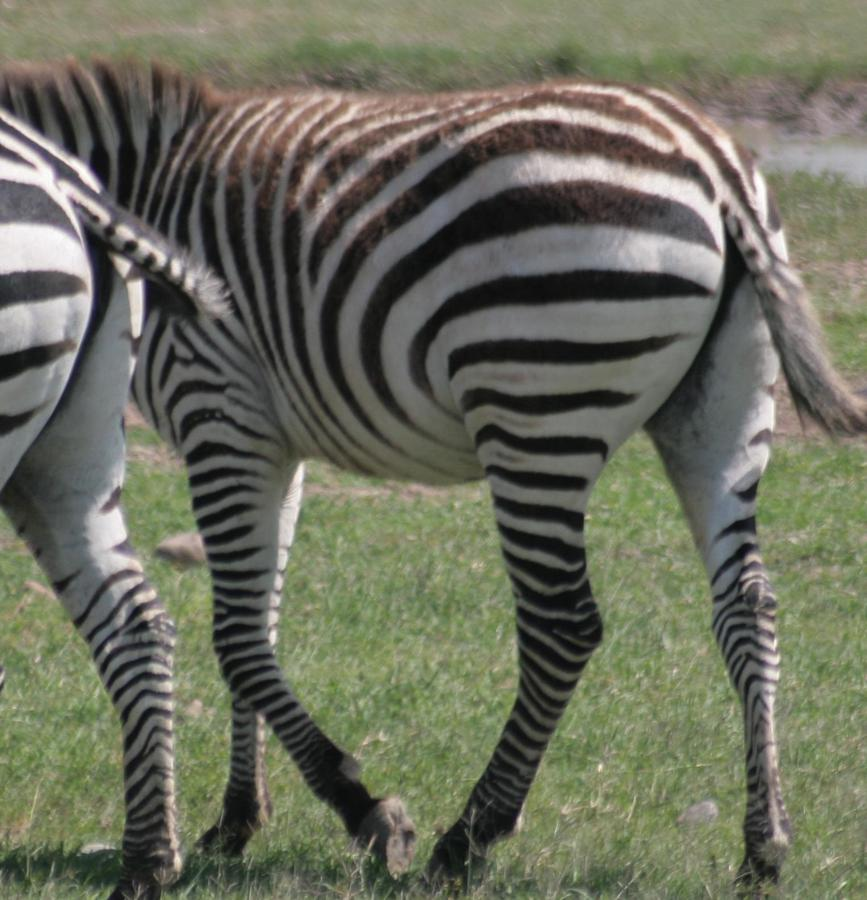zebra_plains: (128, 54, 650, 539)
